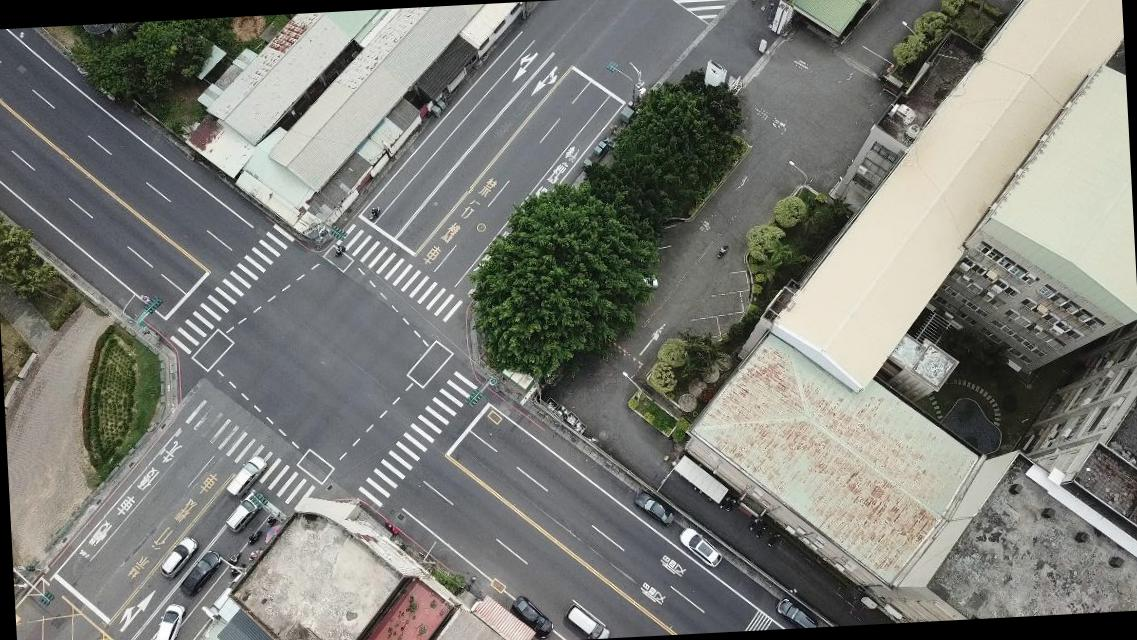vehicle: (174, 550, 222, 596), (508, 593, 554, 639), (157, 534, 200, 580), (678, 526, 722, 570), (222, 489, 264, 534), (224, 455, 268, 496), (562, 603, 612, 639), (632, 489, 675, 529), (773, 596, 818, 630), (152, 602, 187, 639)
